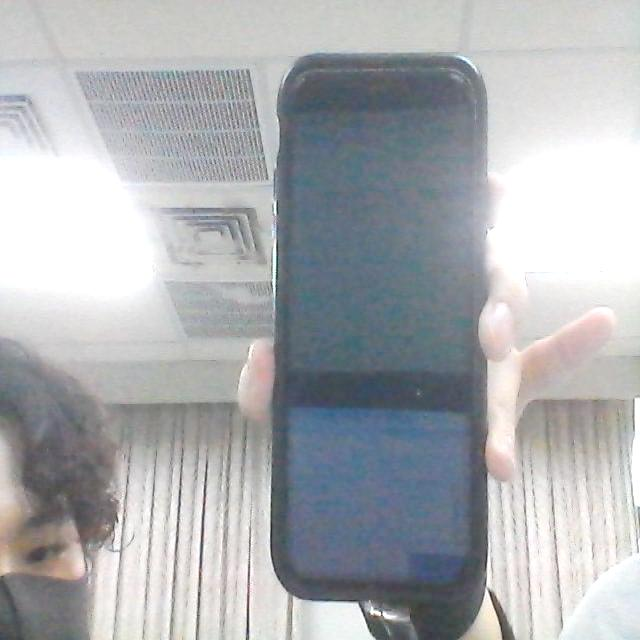phone: (264, 45, 490, 610)
